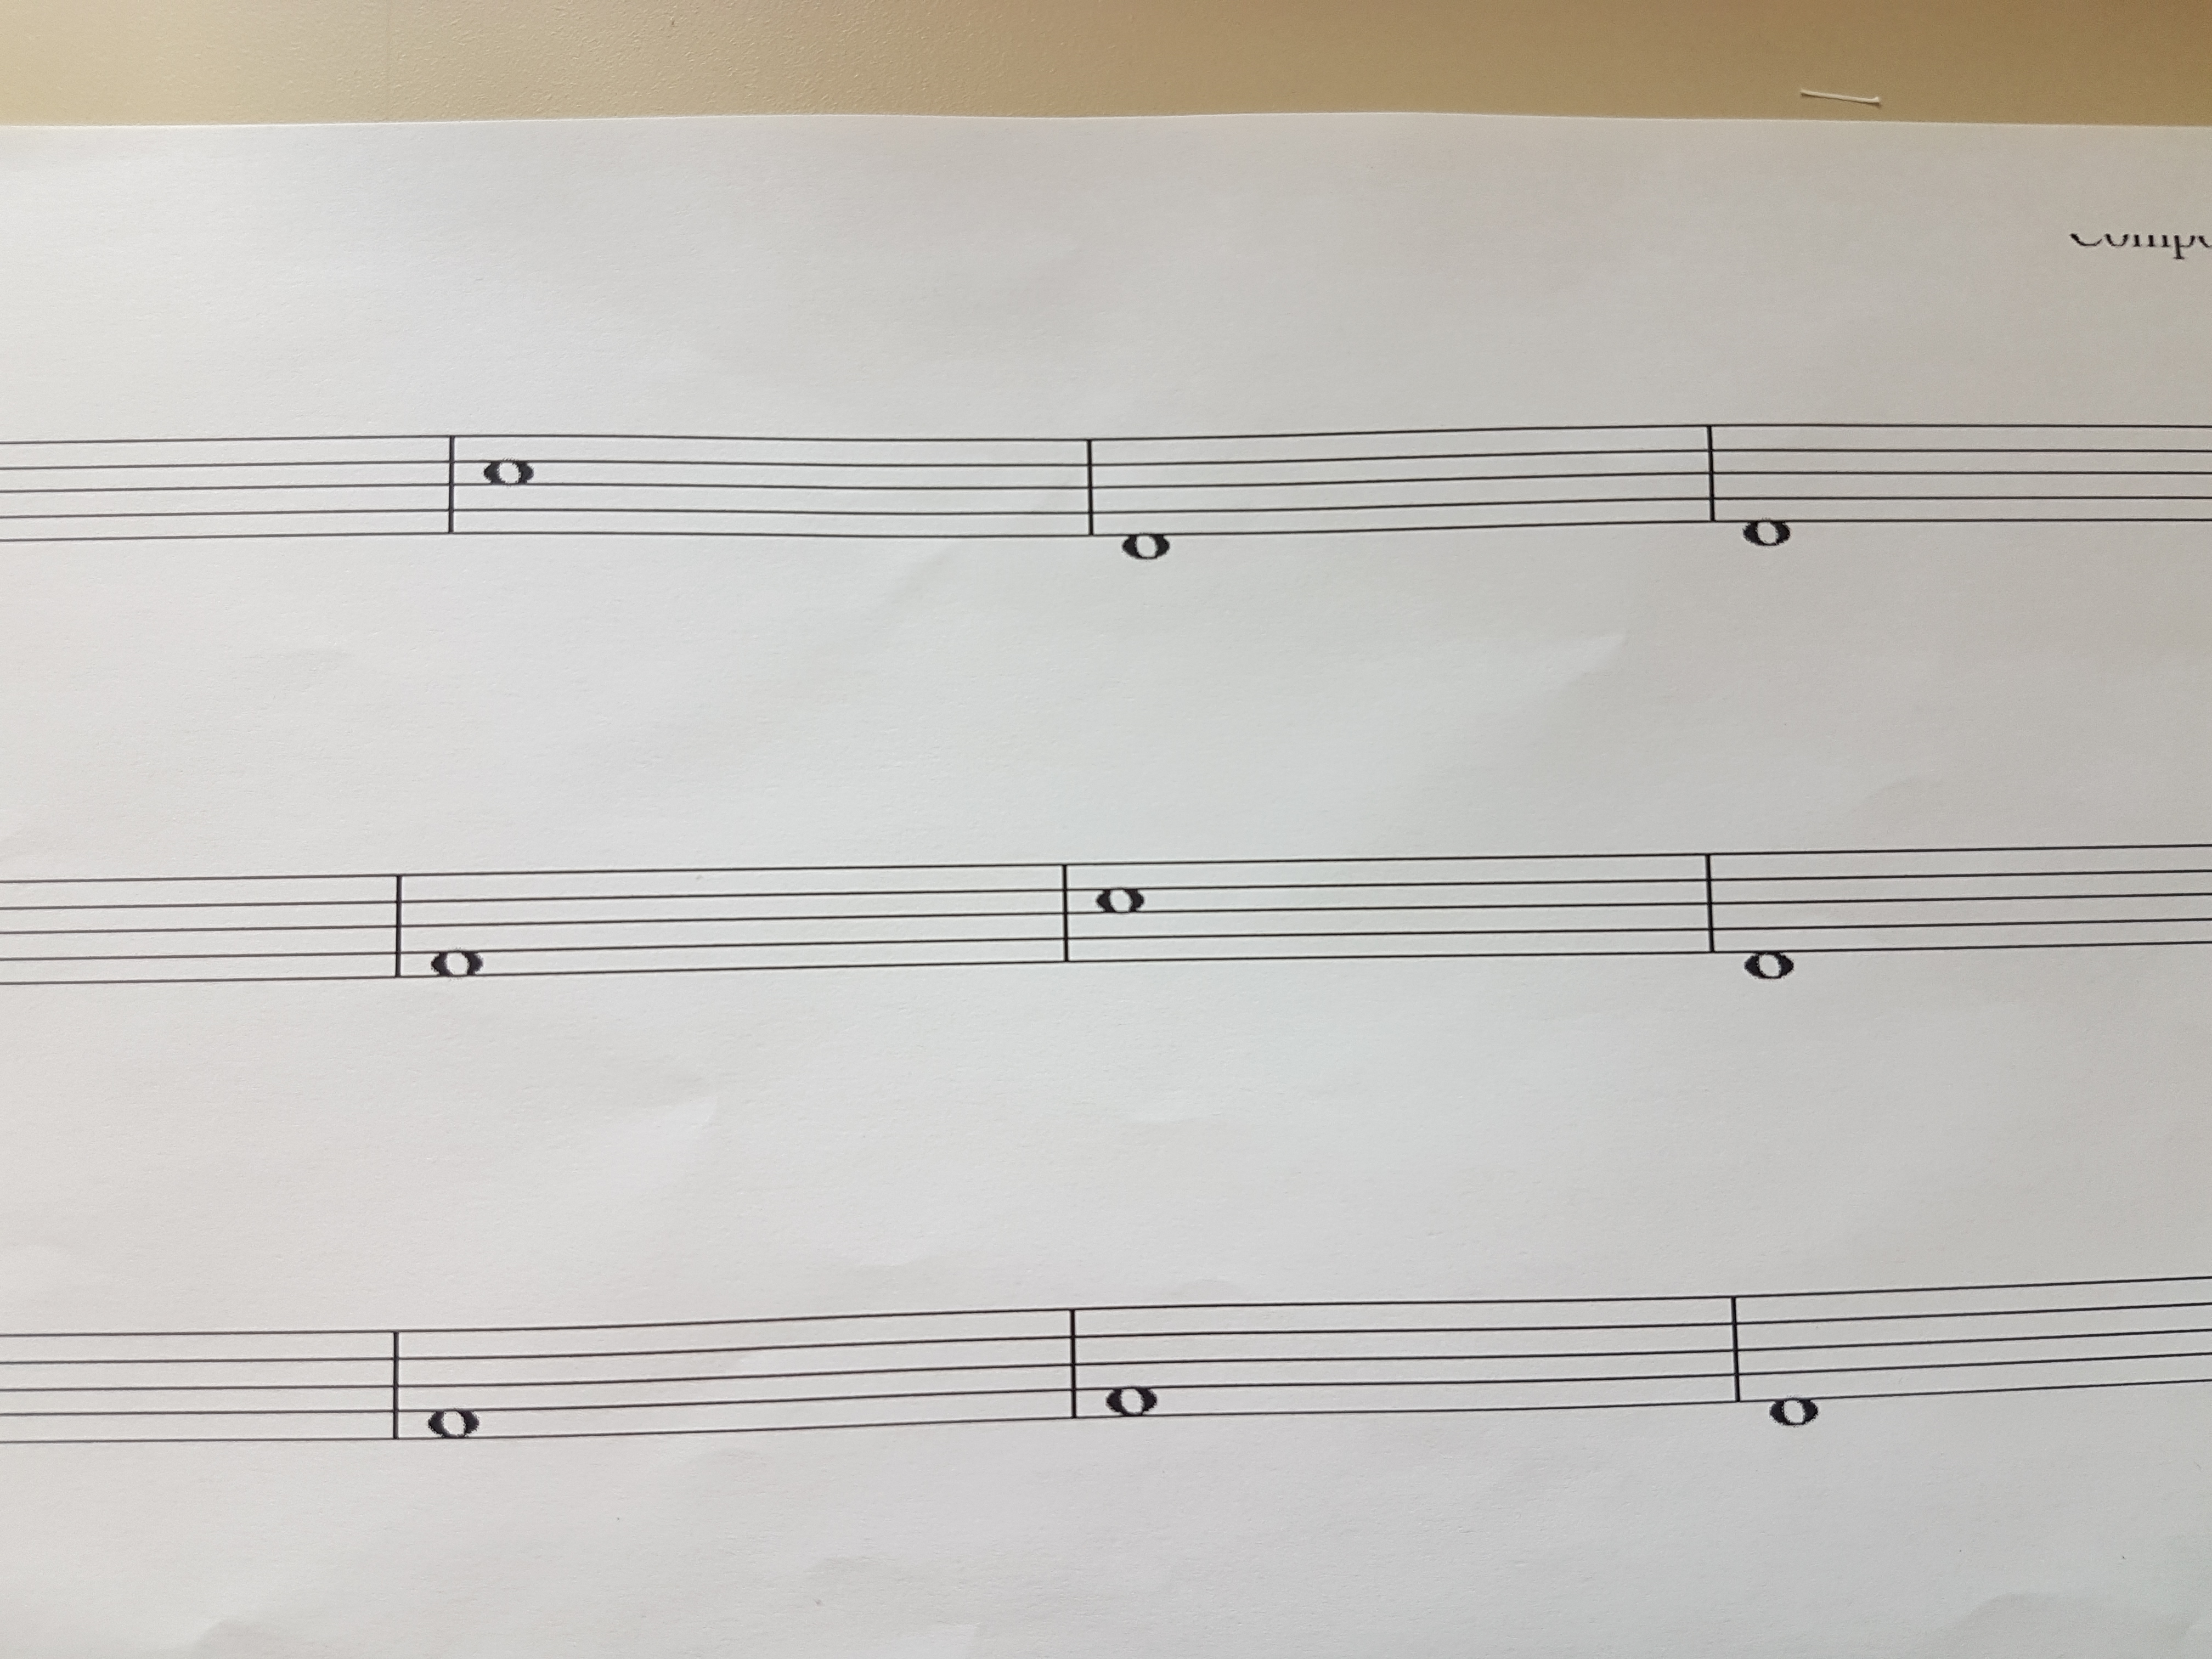pipe: (1693, 833, 1728, 974), (381, 1304, 413, 1459), (1057, 1284, 1087, 1443), (1719, 1276, 1749, 1425), (1071, 423, 1104, 554), (385, 857, 413, 1000), (1052, 845, 1080, 983), (1702, 411, 1730, 540), (435, 418, 462, 542)
semibreve_c: (474, 399, 543, 565), (1092, 823, 1146, 986)
semibreve_d: (1761, 1256, 1829, 1450), (1116, 401, 1181, 589), (1738, 821, 1799, 1002), (1738, 394, 1797, 575)
semibreve_f: (1096, 1270, 1169, 1450), (421, 1298, 489, 1473), (423, 833, 488, 1009)
